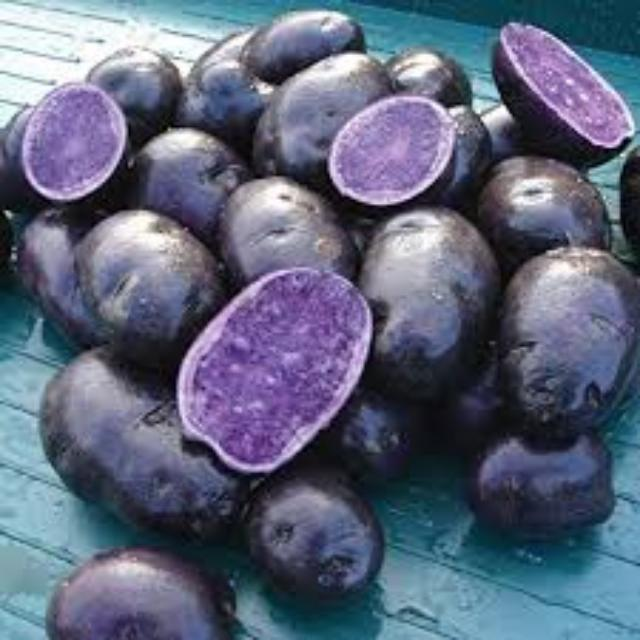Damaged potato: (34, 353, 266, 542), (354, 203, 504, 401), (494, 242, 638, 443), (69, 213, 229, 353), (242, 469, 388, 606), (46, 540, 250, 638), (464, 432, 618, 548), (7, 217, 137, 351), (260, 58, 400, 175), (217, 178, 346, 294), (479, 157, 609, 271), (130, 131, 256, 245), (172, 33, 290, 135), (79, 46, 185, 144), (244, 9, 366, 76)
Defected potato: (178, 264, 376, 472), (490, 17, 640, 165), (324, 94, 452, 208), (20, 78, 128, 202)
